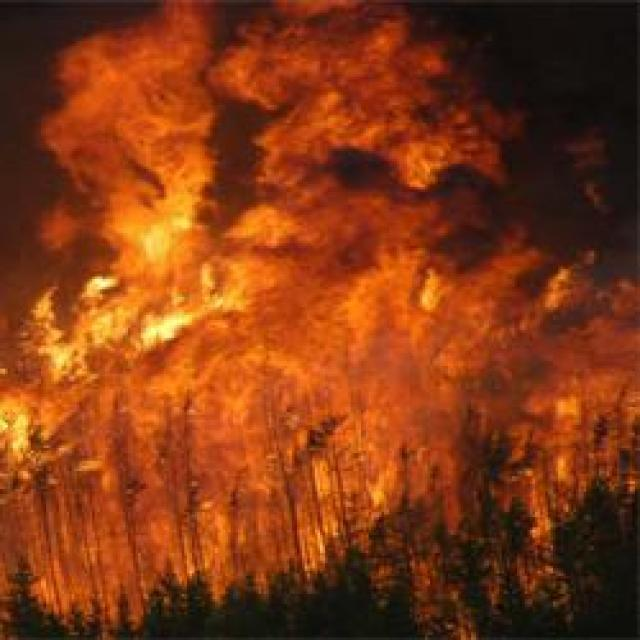Fire: (85, 44, 209, 178), (324, 272, 450, 386), (100, 194, 199, 272), (111, 298, 200, 358), (233, 203, 304, 250), (3, 394, 40, 464)
